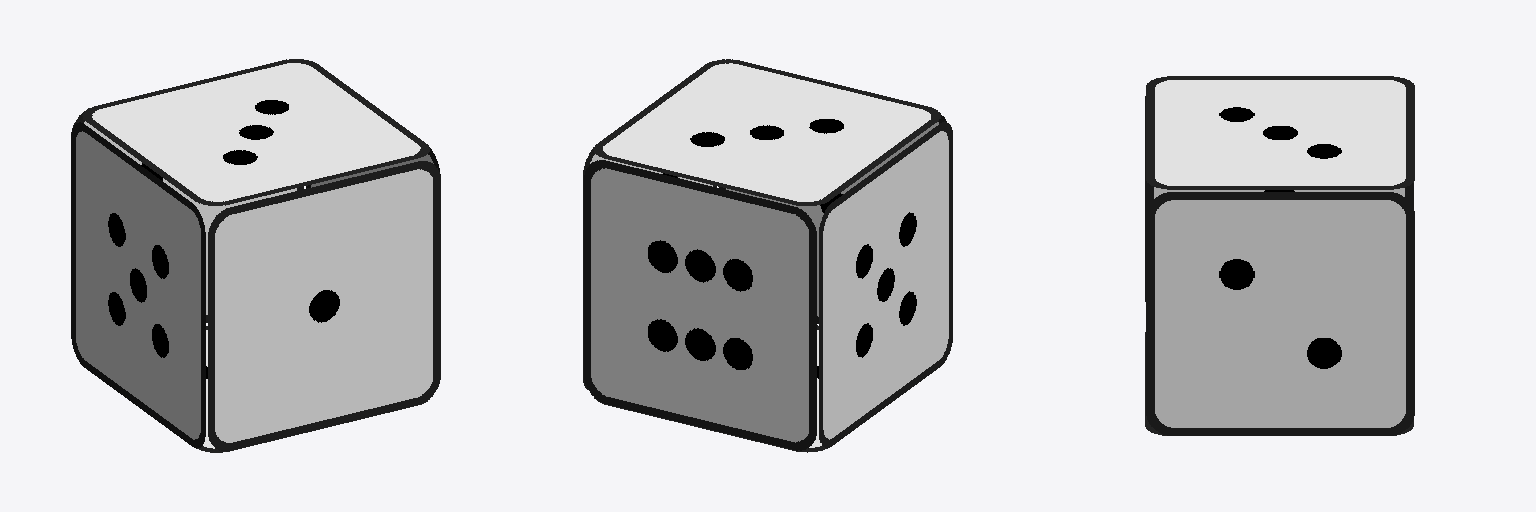
3 renders of one model, left to right at view 1: azimuth 30°, elevation 25°; view 2: azimuth 150°, elevation 25°; view 3: azimuth 270°, elevation 25°, orthographic.
Parts seen in each view (by area): view 1: Cube; view 2: Cube; view 3: Cube.
Boxes of the visible parts, box(x1,y1,x2,y2) form: Cube: box(71, 59, 440, 452); Cube: box(583, 59, 952, 452); Cube: box(1145, 76, 1414, 435).
Size of the model in its own units: 2 by 2 by 2.
1 materials, 1 textured.